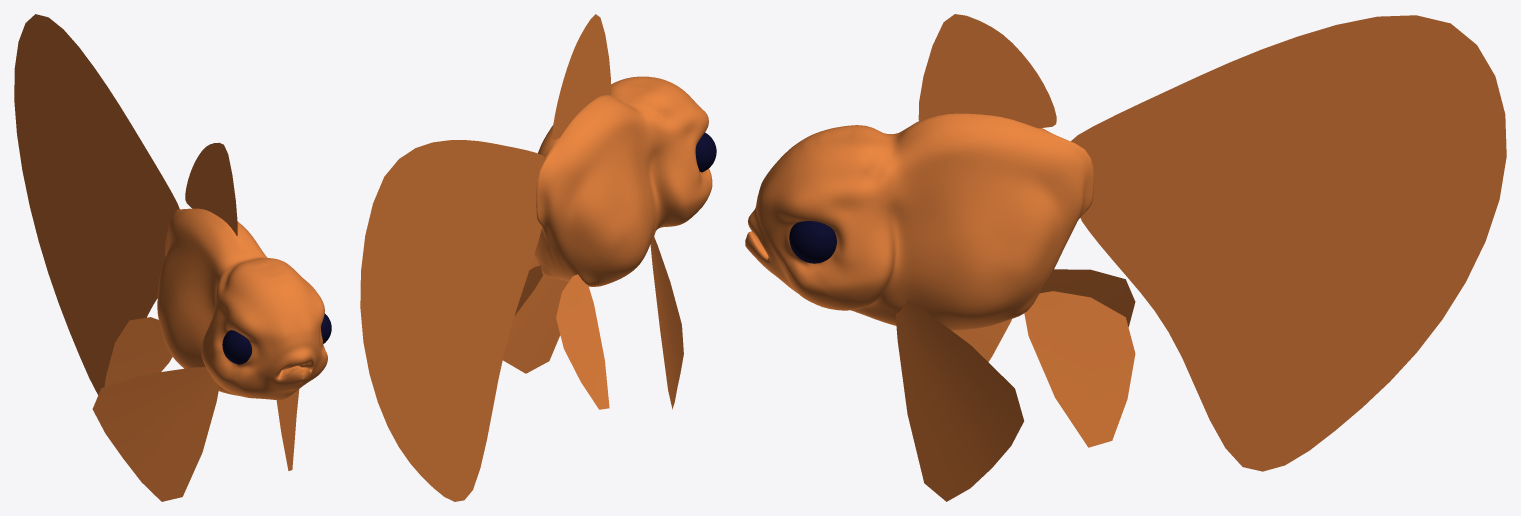
File: fish for texturing1.fbx
3 renders of one model, left to right at view 1: azimuth 30°, elevation 25°; view 2: azimuth 150°, elevation 25°; view 3: azimuth 270°, elevation 25°, orthographic. The views are drawn at different scales.
Parts seen in each view (by area): view 1: tail, body, back fin R, Eye R; view 2: tail, body, back fin R, Eye R; view 3: tail, body, back fin R, Eye L.
Boxes of the visible parts, x1,y1,x2,y2 form: tail: (14, 14, 179, 394); body: (157, 208, 327, 399); back fin R: (92, 142, 299, 501); Eye R: (222, 330, 251, 364); tail: (360, 140, 545, 501); body: (534, 76, 712, 286); back fin R: (503, 14, 683, 409); Eye R: (695, 132, 716, 172); tail: (1071, 15, 1506, 471); body: (745, 113, 1094, 330); back fin R: (895, 14, 1135, 501); Eye L: (789, 221, 836, 263).
Size of the model in its own units: 9.19 by 14.53 by 21.91.
